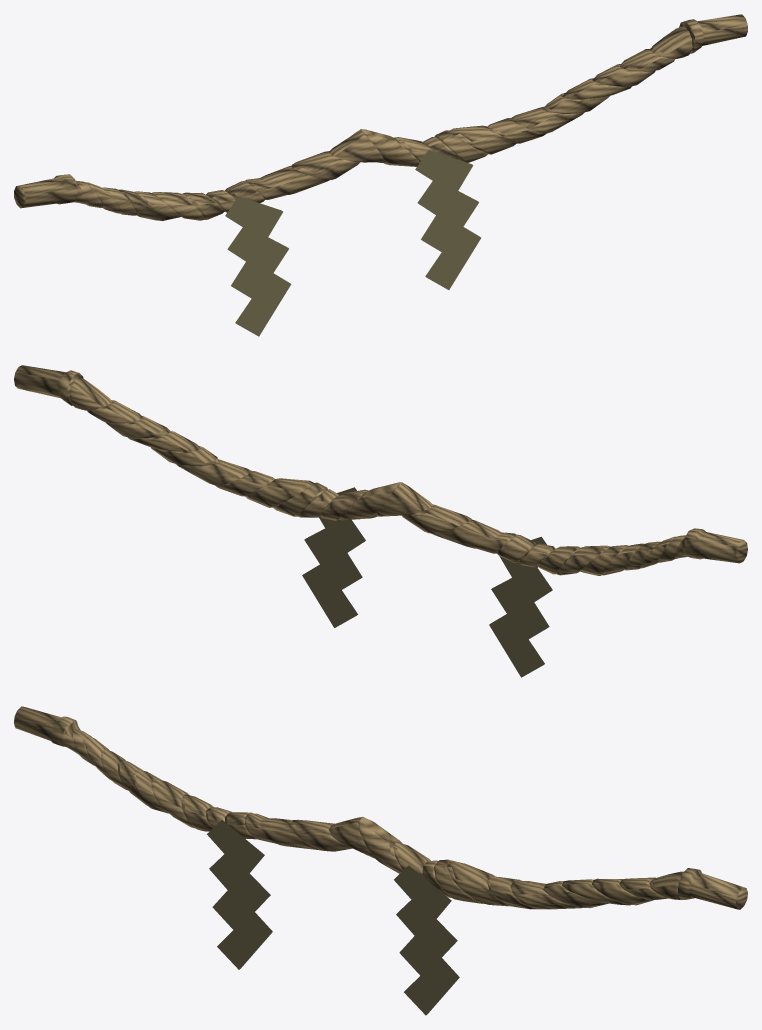
Rendered from Rope.fbx.
The picture shows the model from 3 angles, top to bottom: view 1: azimuth 30°, elevation 25°; view 2: azimuth 150°, elevation 25°; view 3: azimuth 330°, elevation 25°; orthographic projection.
Visible parts, largest first — view 1: Mesh; view 2: Mesh; view 3: Mesh.
Part boxes in pixels (bbox=[...]): Mesh: bbox=[14, 14, 747, 336]; Mesh: bbox=[14, 365, 747, 677]; Mesh: bbox=[14, 706, 747, 1015].
Bounding box in the file's own units: 1578 × 419 × 78.74.
